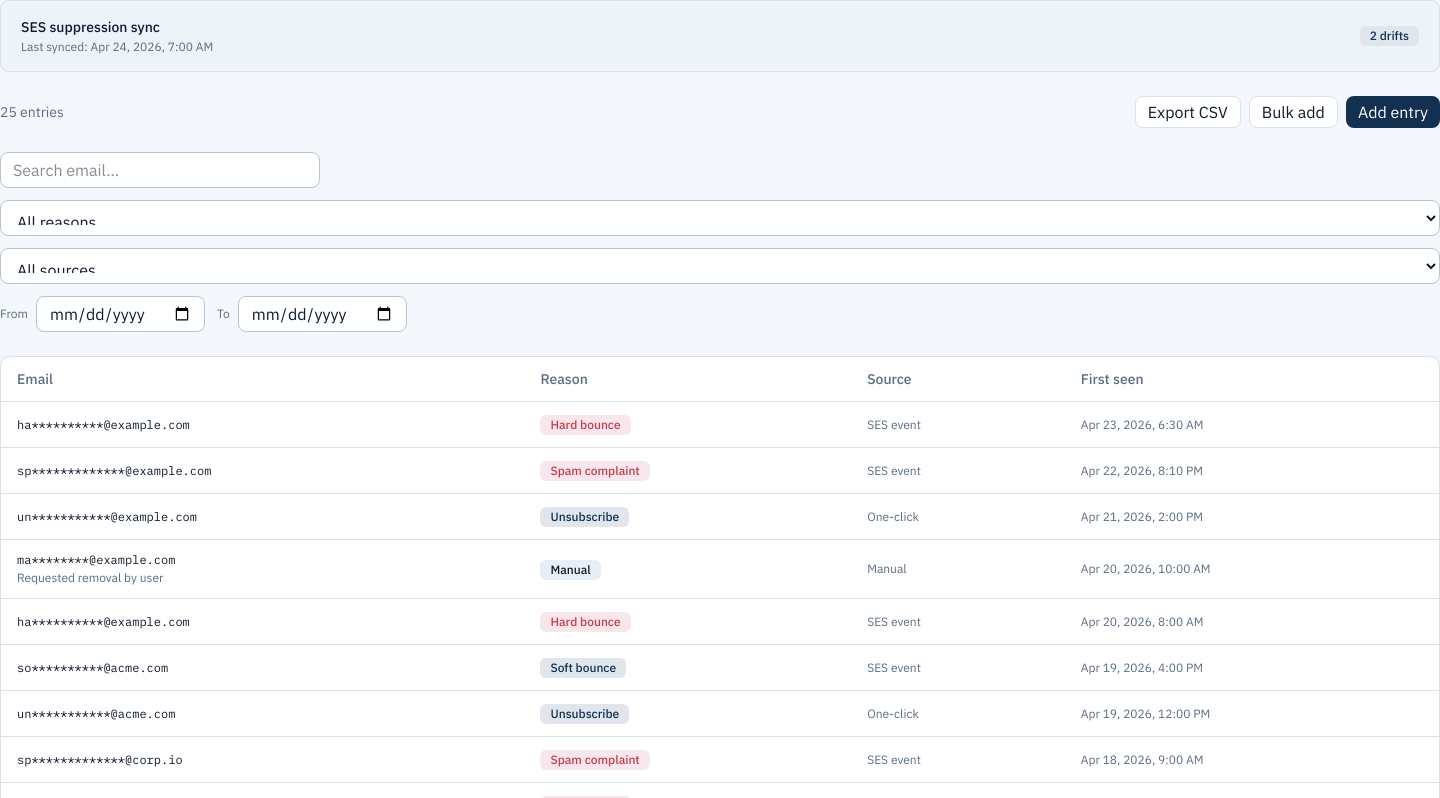
SuppressionManager › opens bulk-add dialog on click
Click the button "Bulk add": x=1293, y=112 [1249, 96, 1338, 128]
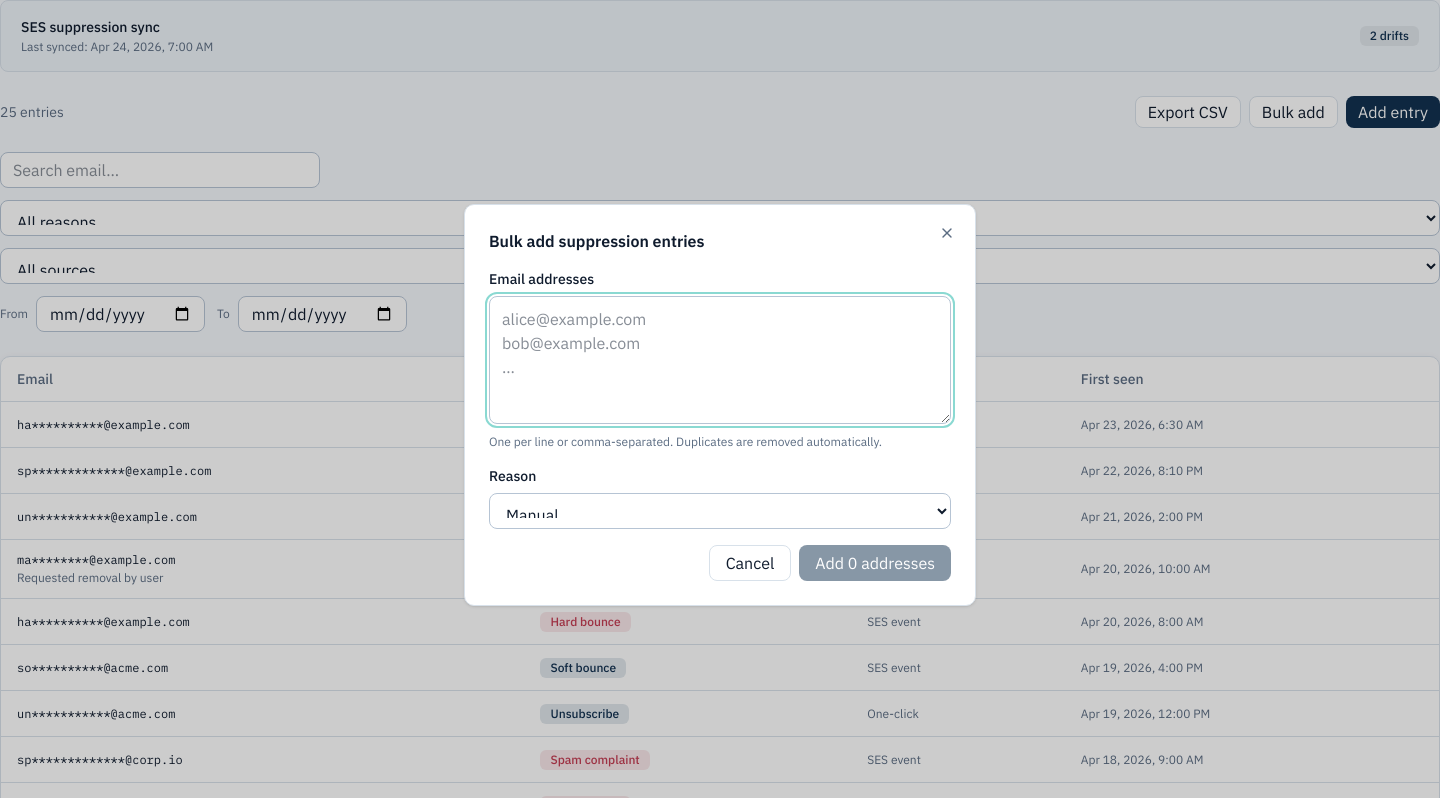
Expected: the dialog "Bulk add suppression entries" is shown, [464, 204, 976, 606]
